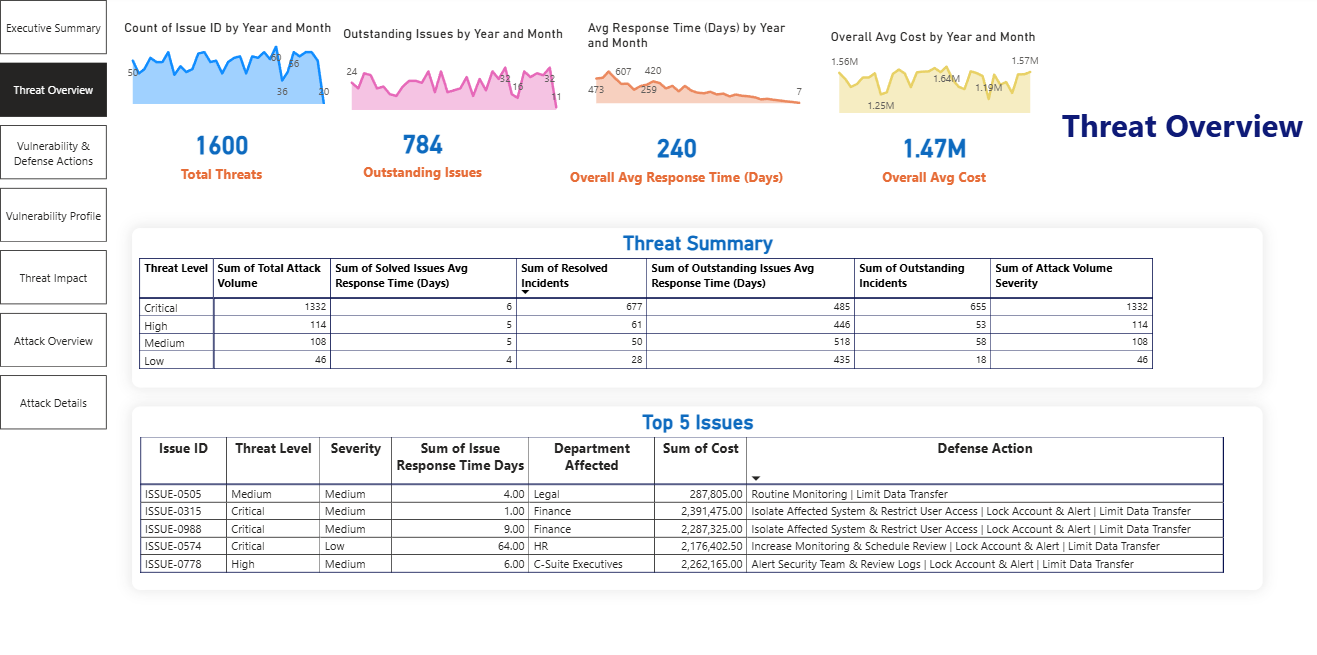

What the dashboard file says about the page in this screenshot:
{"tool":"powerbi","page":{"name":"Threat Overview","canvas":[1600,800],"ordinal":1},"visuals":[{"type":"pivotTable","title":"Threat Summary","fields":{"Rows":["Threat Level Summary Table.Threat Level"],"Values":["Sum(Threat Level Summary Table.Total Attack Volume)","Sum(Threat Level Summary Table.Solved Issues Avg Response Time (Days))","Sum(Threat Level Summary Table.Resolved Incidents)","Sum(Threat Level Summary Table.Outstanding Issues Avg Response Time (Days))","Sum(Threat Level Summary Table.Outstanding Incidents)","Sum(Threat Level Summary Table.Attack Volume Severity)"]},"box":[158.1,272.9,1356.3,191.4],"z":0},{"type":"tableEx","title":"Top 5 Issues","fields":{"Values":["Top 5 Issues Table.Issue ID","Top 5 Issues Table.Threat Level","Top 5 Issues Table.Severity","Sum(Top 5 Issues Table.Issue Response Time Days)","Top 5 Issues Table.Department Affected","Sum(Top 5 Issues Table.Cost)","Top 5 Issues Table.Defense Action"]},"box":[158.1,487.6,1356.3,219.7],"z":1000},{"type":"card","fields":{"Values":["simulated_attacks_df.Total Threats"]},"box":[143.9,134.9,242.9,95.4],"z":2000},{"type":"card","fields":{"Values":["simulated_attacks_df.Overall Avg Response Time (Days)"]},"box":[665.5,140.3,291.5,91.8],"z":3000},{"type":"card","fields":{"Values":["simulated_attacks_df.Outstanding Issues"]},"box":[386.6,136.7,239.3,88.2],"z":4000},{"type":"textbox","box":[1267.9,100.8,314.8,86.4],"z":5000},{"type":"card","fields":{"Values":["Sum(simulated_attacks_df.Cost)","simulated_attacks_df.Overall Avg Cost"]},"box":[1007.3,138.5,224.9,95.4],"z":6000},{"type":"areaChart","fields":{"Category":["simulated_attacks_df.Date Reported.Variation.Date Hierarchy.Year","simulated_attacks_df.Date Reported.Variation.Date Hierarchy.Month"],"Y":["CountNonNull(simulated_attacks_df.Issue ID)"]},"box":[143.9,23.4,259.1,106.1],"z":7000},{"type":"areaChart","fields":{"Category":["simulated_attacks_df.Date Reported.Variation.Date Hierarchy.Year","simulated_attacks_df.Date Reported.Variation.Date Hierarchy.Month"],"Y":["simulated_attacks_df.Outstanding Issues"]},"box":[406.4,30.6,275.3,106.1],"z":8000},{"type":"areaChart","title":"Avg Response Time (Days) by Year and Month","fields":{"Category":["simulated_attacks_df.Date Reported.Variation.Date Hierarchy.Year","simulated_attacks_df.Date Reported.Variation.Date Hierarchy.Month"],"Y":["simulated_attacks_df.Overall Avg Response Time (Days)"]},"box":[699.7,23.4,273.5,106.1],"z":9000},{"type":"areaChart","fields":{"Category":["simulated_attacks_df.Date Reported.Variation.Date Hierarchy.Year","simulated_attacks_df.Date Reported.Variation.Date Hierarchy.Month"],"Y":["simulated_attacks_df.Overall Avg Cost"]},"box":[991.1,34.2,259.1,106.1],"z":10000},{"type":"pageNavigator","box":[0,0,128.1,519.2],"z":11000}]}

Visuals, with their boxes on the page's 1600x800 design canvas (x1, y1, x2, y2). These are canvas units, not pixel positions in the 1317x655 screenshot, which may show the page scaled, cropped or inside an application window:
"Threat Summary" pivotTable: [x1=158, y1=273, x2=1514, y2=464]
"Top 5 Issues" tableEx: [x1=158, y1=488, x2=1514, y2=707]
card - simulated_attacks_df.Total Threats: [x1=144, y1=135, x2=387, y2=230]
card - simulated_attacks_df.Overall Avg Response Time (Days): [x1=666, y1=140, x2=957, y2=232]
card - simulated_attacks_df.Outstanding Issues: [x1=387, y1=137, x2=626, y2=225]
textbox: [x1=1268, y1=101, x2=1583, y2=187]
card - Sum(simulated_attacks_df.Cost) x simulated_attacks_df.Overall Avg Cost: [x1=1007, y1=138, x2=1232, y2=234]
areaChart - simulated_attacks_df.Date Reported.Variation.Date Hierarchy.Year x simulated_attacks_df.Date Reported.Variation.Date Hierarchy.Month: [x1=144, y1=23, x2=403, y2=130]
areaChart - simulated_attacks_df.Date Reported.Variation.Date Hierarchy.Year x simulated_attacks_df.Date Reported.Variation.Date Hierarchy.Month: [x1=406, y1=31, x2=682, y2=137]
"Avg Response Time (Days) by Year and Month" areaChart: [x1=700, y1=23, x2=973, y2=130]
areaChart - simulated_attacks_df.Date Reported.Variation.Date Hierarchy.Year x simulated_attacks_df.Date Reported.Variation.Date Hierarchy.Month: [x1=991, y1=34, x2=1250, y2=140]
pageNavigator: [x1=0, y1=0, x2=128, y2=519]
